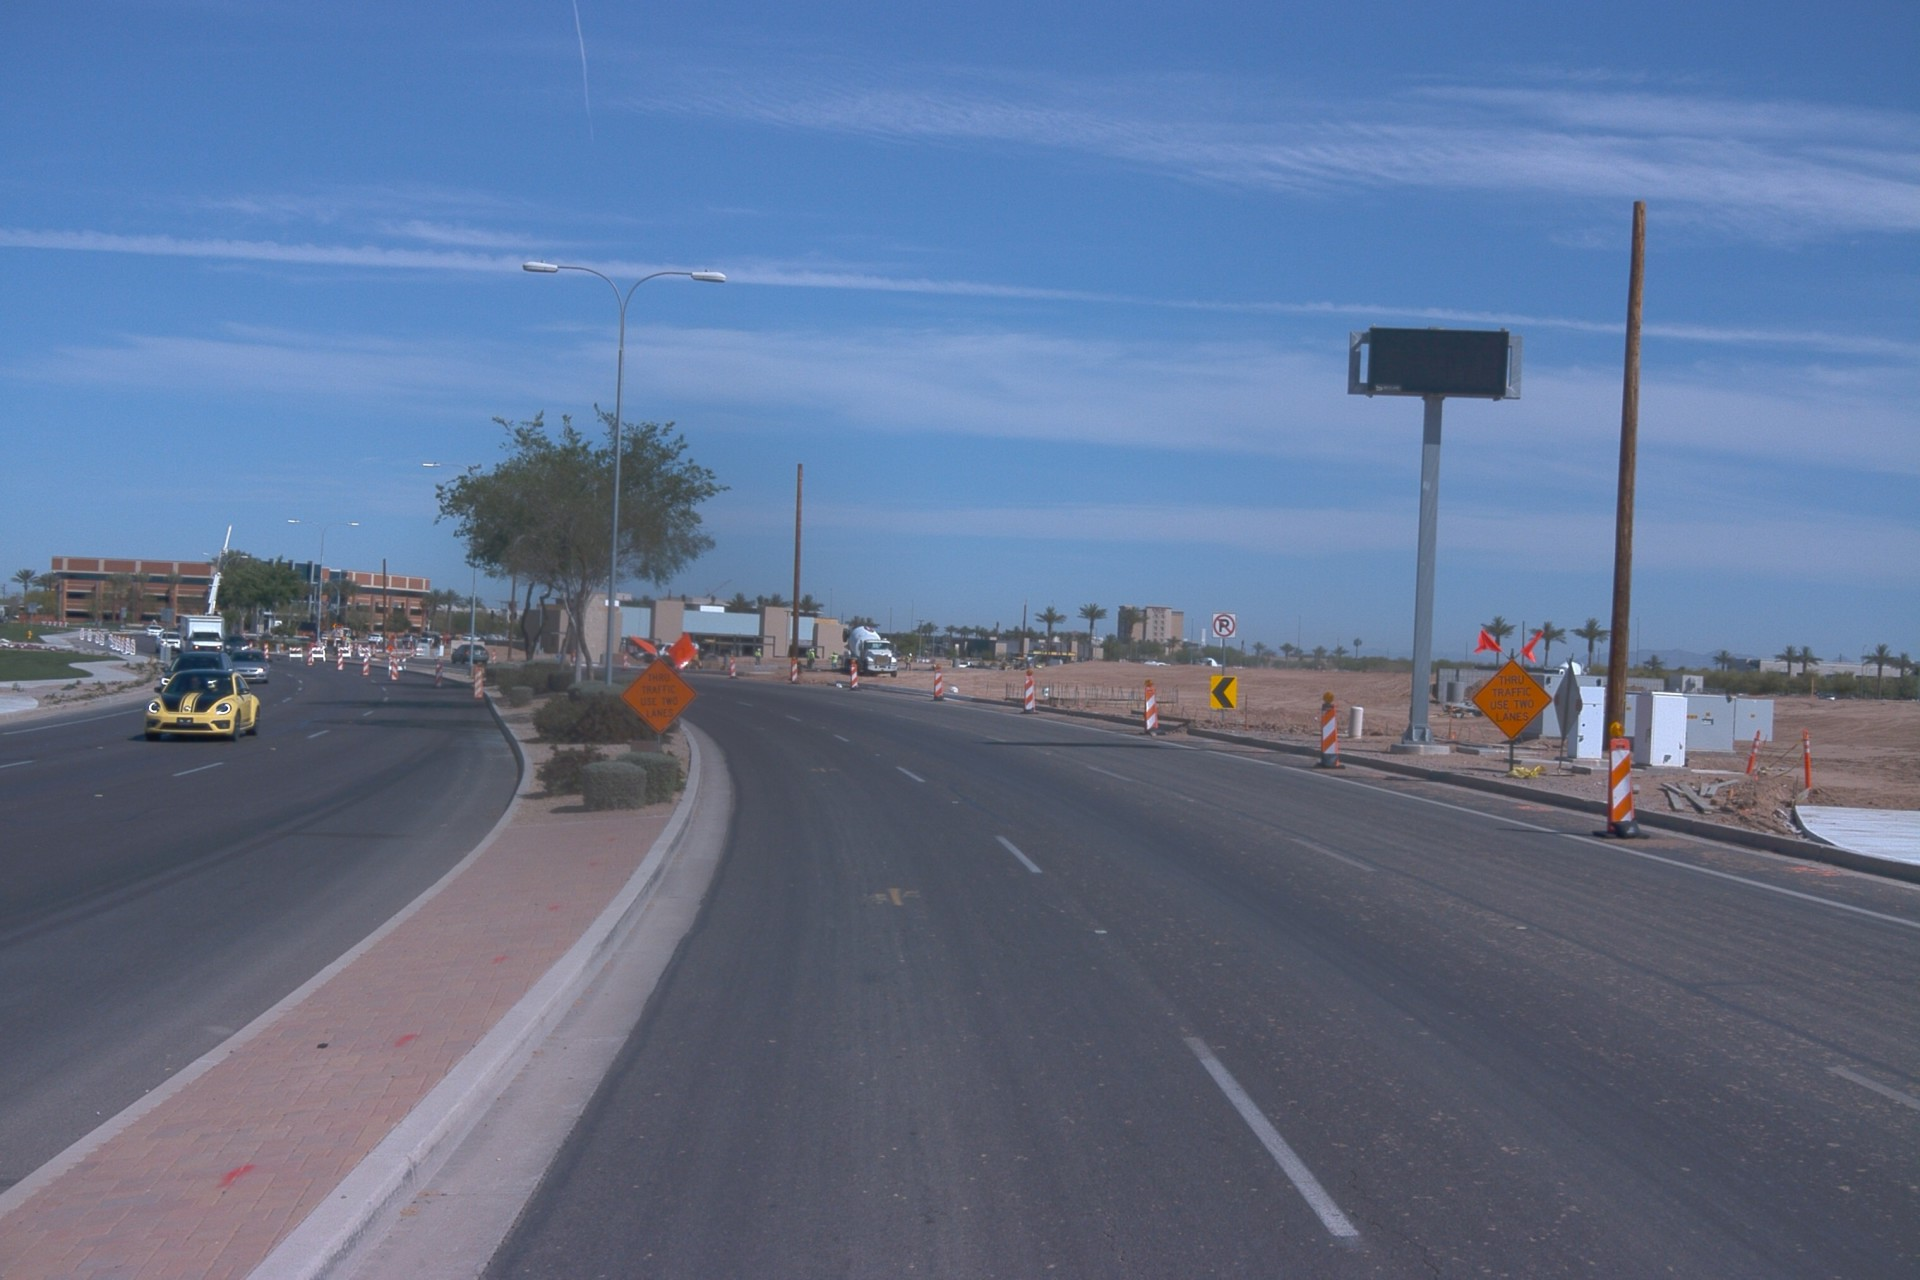TYPE_PEDESTRIAN: (827, 651, 839, 673), (809, 648, 818, 670), (753, 647, 762, 667), (807, 649, 813, 671), (905, 655, 912, 671)
TYPE_VEHICLE: (172, 522, 238, 668), (141, 664, 261, 741), (152, 651, 232, 694), (178, 615, 228, 658), (224, 648, 270, 684), (644, 643, 701, 658), (449, 645, 491, 665), (1548, 657, 1586, 679), (156, 629, 185, 655), (999, 654, 1040, 672), (295, 635, 325, 653), (223, 636, 252, 652), (1144, 658, 1174, 669), (144, 626, 163, 640), (460, 633, 484, 643), (633, 647, 647, 662), (840, 650, 853, 662), (958, 660, 974, 669), (803, 653, 820, 659), (771, 656, 786, 659)
